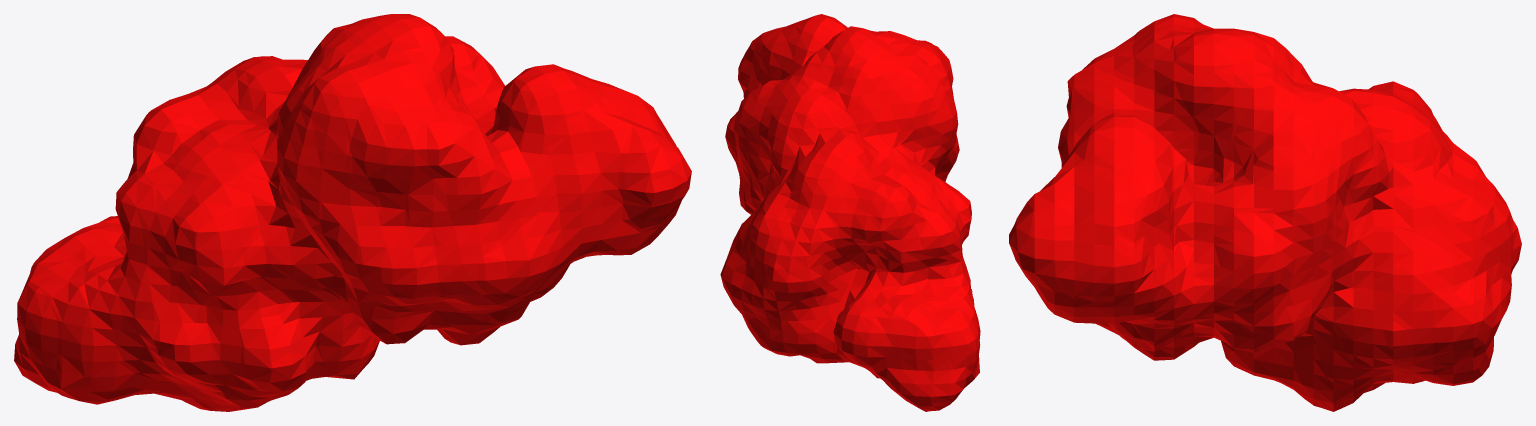
The model's file is accC_coarse.dae.
3 views of the same model, side by side, from view 1: azimuth 30°, elevation 25°; view 2: azimuth 150°, elevation 25°; view 3: azimuth 270°, elevation 25° (orthographic). The views are drawn at different scales.
Visible parts, largest first — view 1: accC; view 2: accC; view 3: accC.
Part boxes in pixels (left/top/right/bottom): accC: left=14, top=14, right=691, bottom=411; accC: left=720, top=14, right=980, bottom=411; accC: left=1009, top=14, right=1521, bottom=411.
Bounding box in the file's own units: 95.01 × 76.53 × 87.89.
